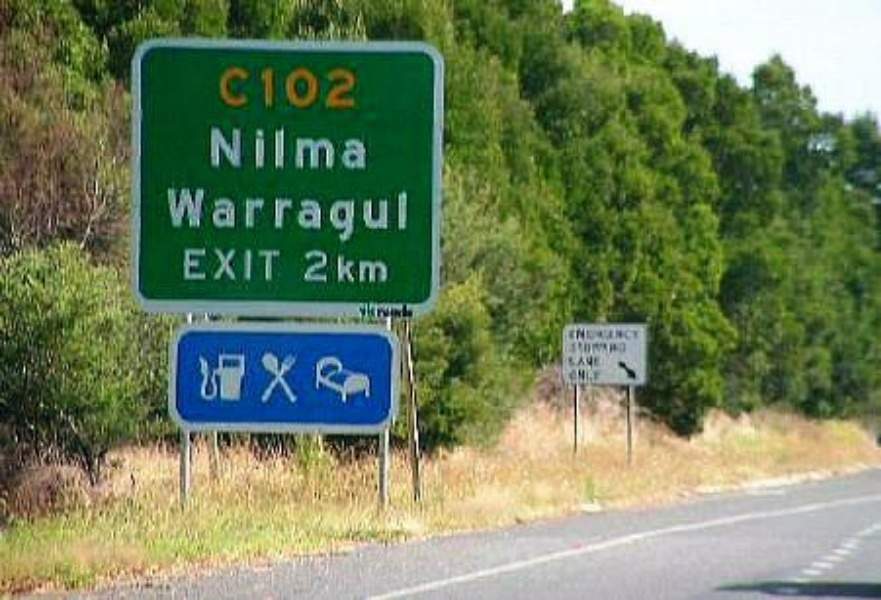text: (177, 186, 192, 249), (193, 186, 208, 249), (209, 186, 224, 249), (225, 186, 240, 249), (241, 186, 256, 249), (257, 186, 272, 249), (273, 186, 288, 249), (289, 186, 304, 249), (305, 186, 320, 249), (321, 186, 336, 249), (337, 186, 352, 249), (353, 186, 368, 249), (369, 186, 384, 249), (385, 186, 400, 249), (225, 65, 240, 112), (241, 65, 256, 112), (257, 65, 272, 112), (273, 65, 288, 112), (289, 65, 304, 112), (305, 65, 320, 112), (321, 65, 336, 112), (337, 65, 352, 112), (165, 186, 176, 249), (225, 126, 240, 172), (241, 126, 256, 172), (257, 126, 272, 172), (273, 126, 288, 172), (289, 126, 304, 172), (305, 126, 320, 172), (321, 126, 336, 172), (337, 126, 352, 172), (353, 126, 368, 172), (210, 126, 224, 172), (193, 249, 208, 284), (209, 249, 224, 284), (225, 249, 240, 284), (241, 249, 256, 284), (257, 249, 272, 284), (305, 249, 320, 284), (401, 186, 409, 249), (337, 255, 352, 284), (353, 255, 368, 284), (369, 255, 384, 284), (273, 249, 282, 284), (184, 249, 192, 284), (321, 249, 329, 284), (219, 65, 224, 112), (577, 325, 592, 339), (593, 325, 608, 339), (609, 325, 624, 339), (625, 325, 640, 339), (577, 354, 592, 366), (577, 341, 592, 352), (593, 341, 608, 352), (609, 341, 624, 352), (565, 325, 576, 339), (561, 370, 576, 380), (577, 370, 592, 380), (563, 341, 576, 352), (353, 65, 356, 112), (369, 126, 372, 172), (565, 354, 576, 366), (385, 255, 389, 284), (593, 370, 604, 380), (593, 354, 602, 366), (303, 249, 304, 284), (641, 325, 643, 339), (625, 341, 626, 352)
